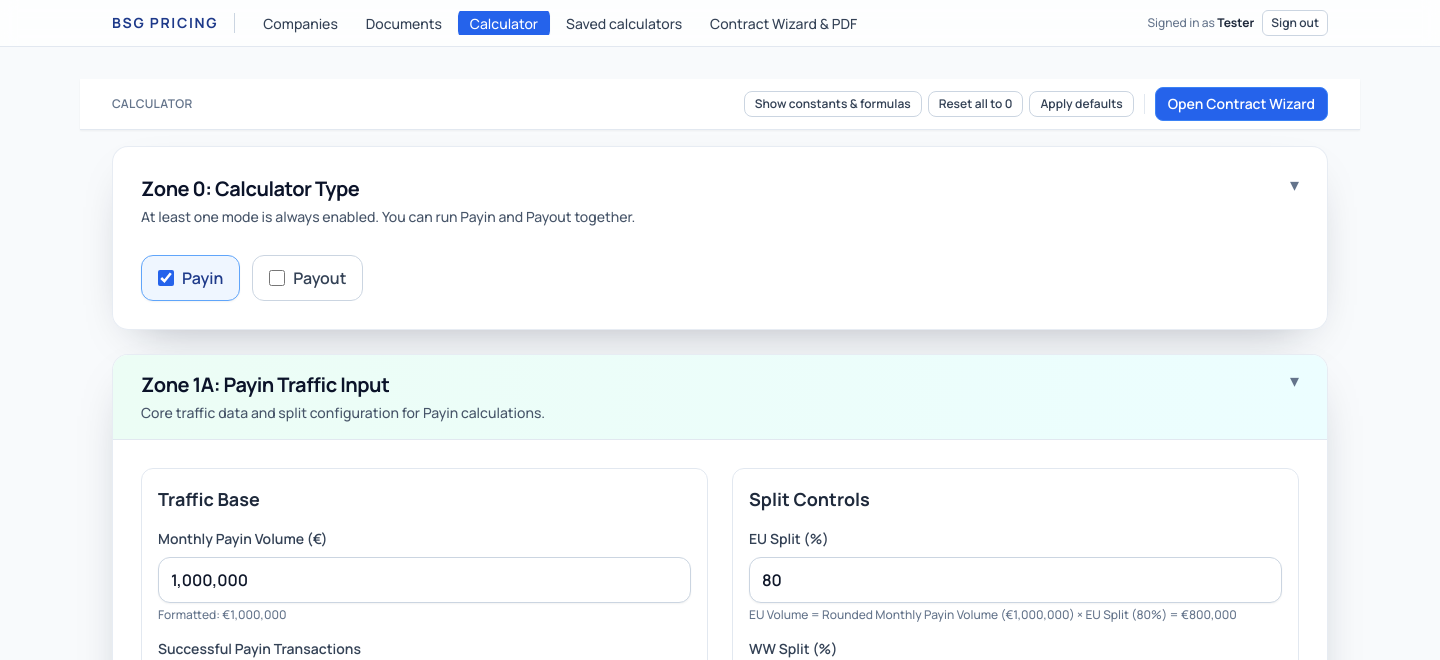
Test: Zone 5 and Zone 6 › supports unified profitability controls (expand/collapse + show formulas)
The width and height of the screenshot is (1440, 660).
Click the button "Show constants & formulas".
click(833, 104)  # box [744,91,922,117]
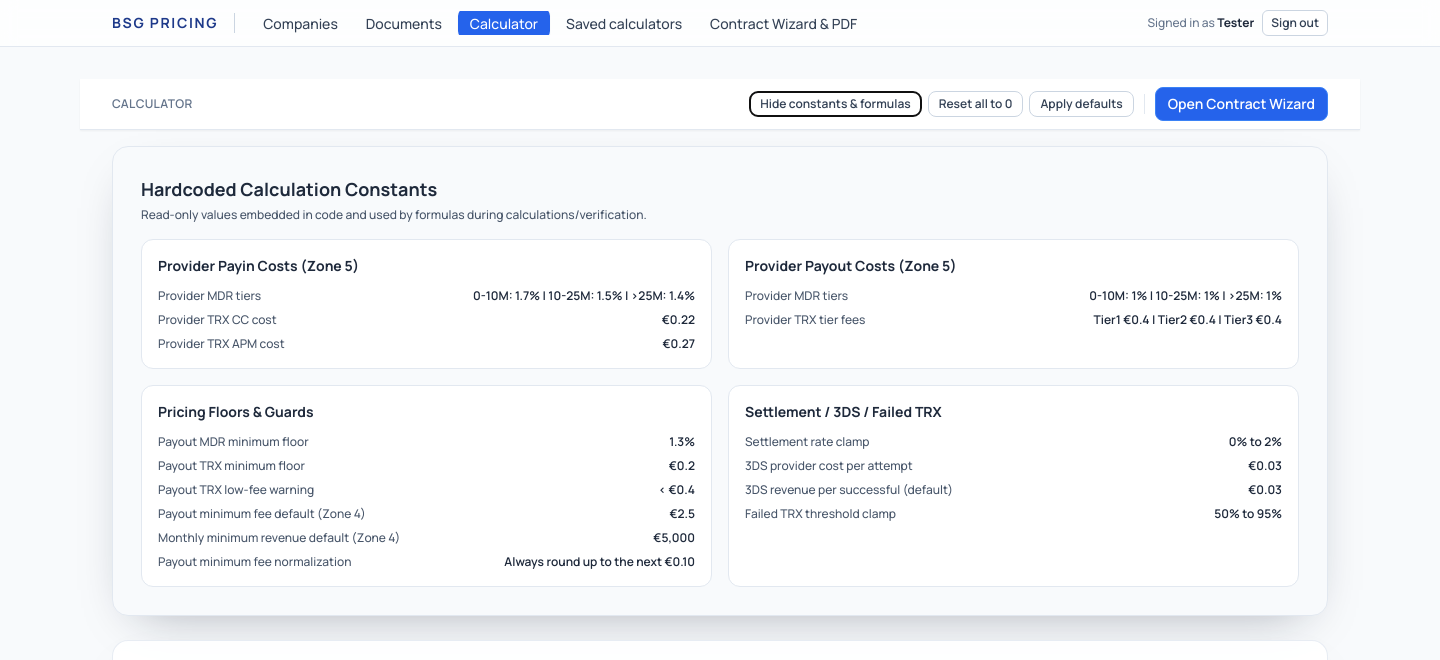
Click the button "Hide constants & formulas".
click(835, 104)  # box [749,91,922,117]
(page scrolled)
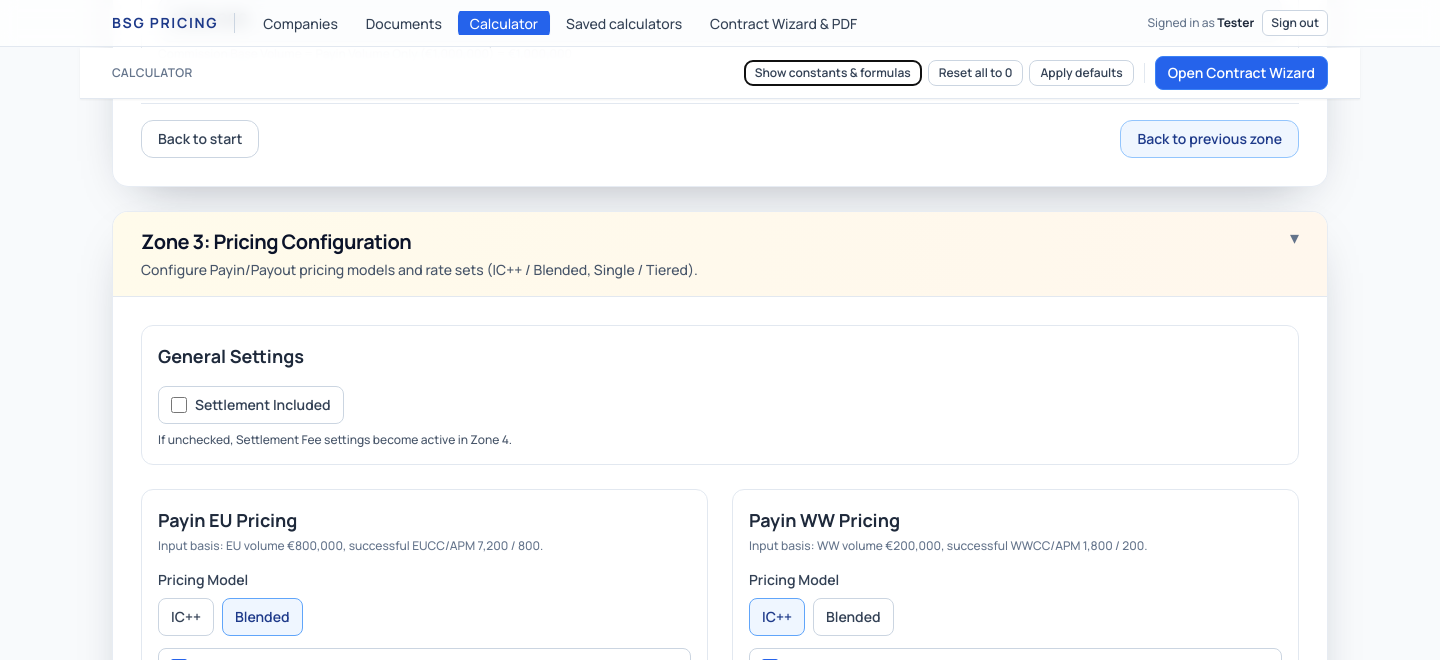
Click the checkbox labelled "Settlement Included".
click(179, 405)  # box [171,397,187,413]
(page scrolled)
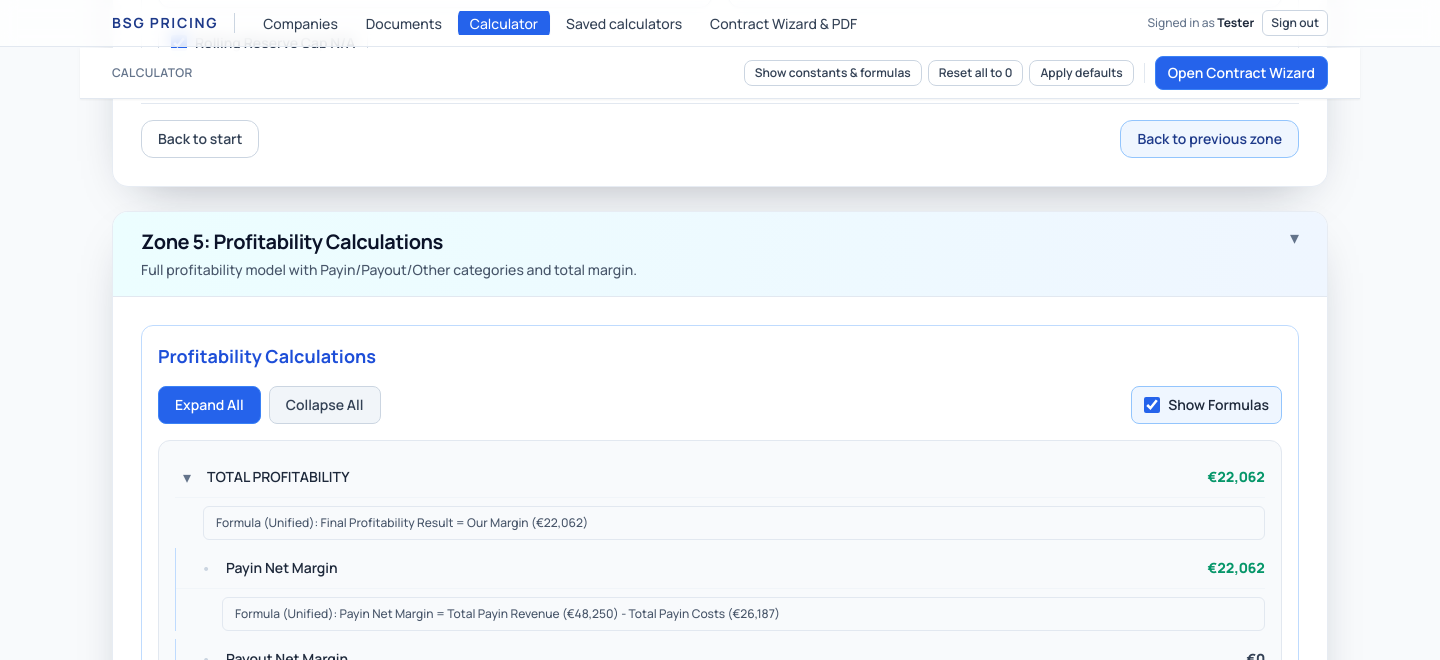
Click the checkbox labelled "Show Formulas".
click(1152, 405)  # box [1144,397,1160,413]
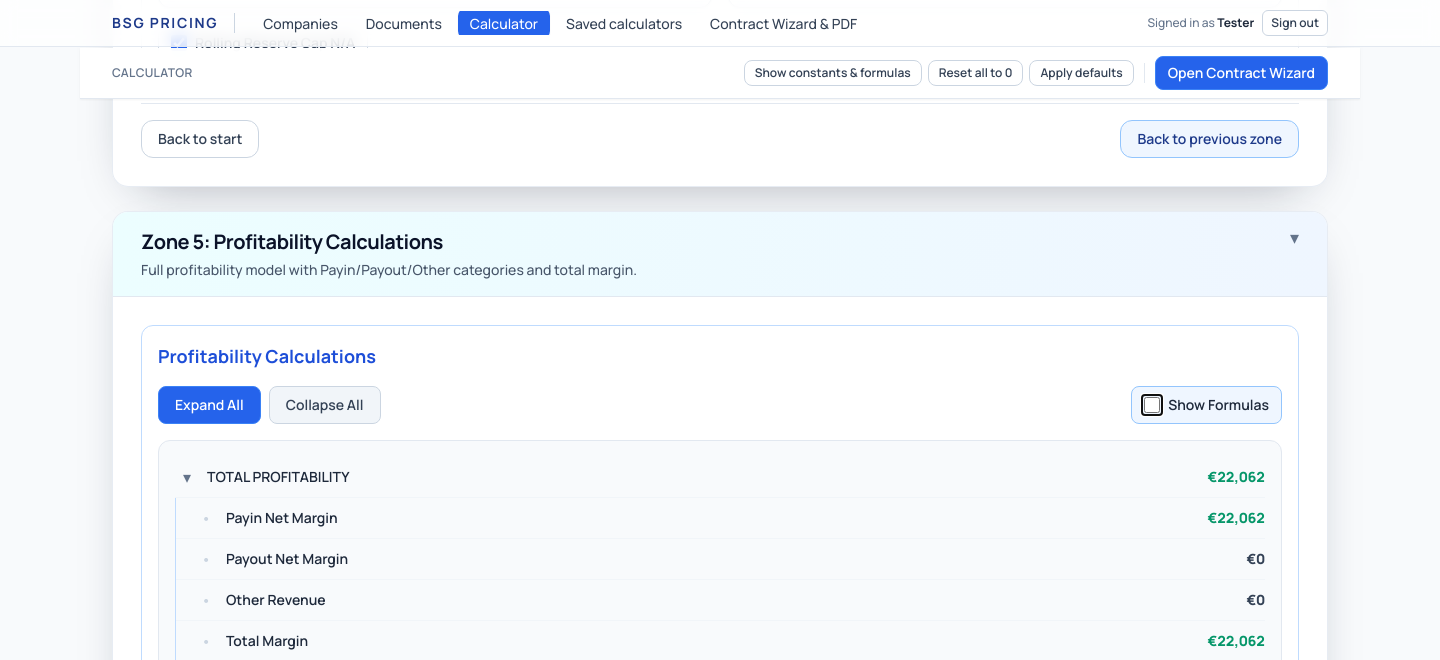
Click the button with aria-label "Collapse all unified profitability rows".
click(325, 405)  # box [269,386,380,424]
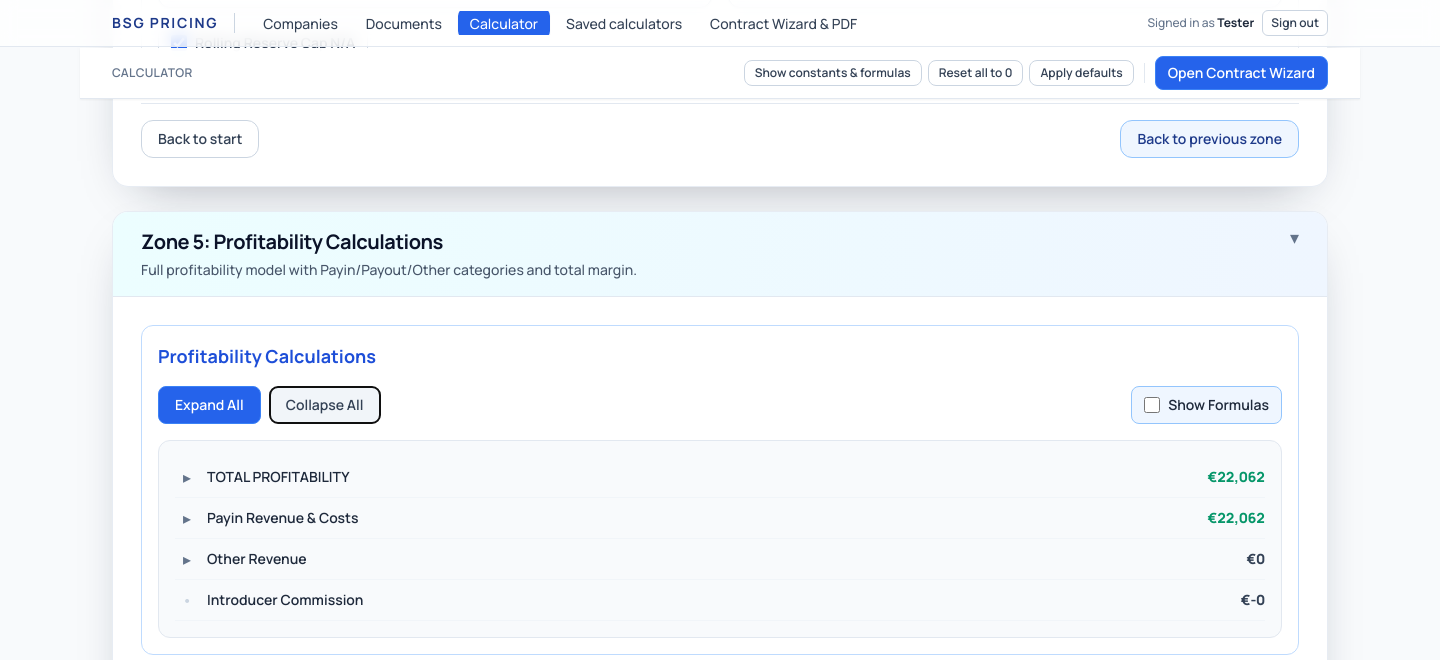
Click the button with aria-label "Expand all unified profitability rows".
click(209, 405)  # box [158,386,261,424]
(page scrolled)
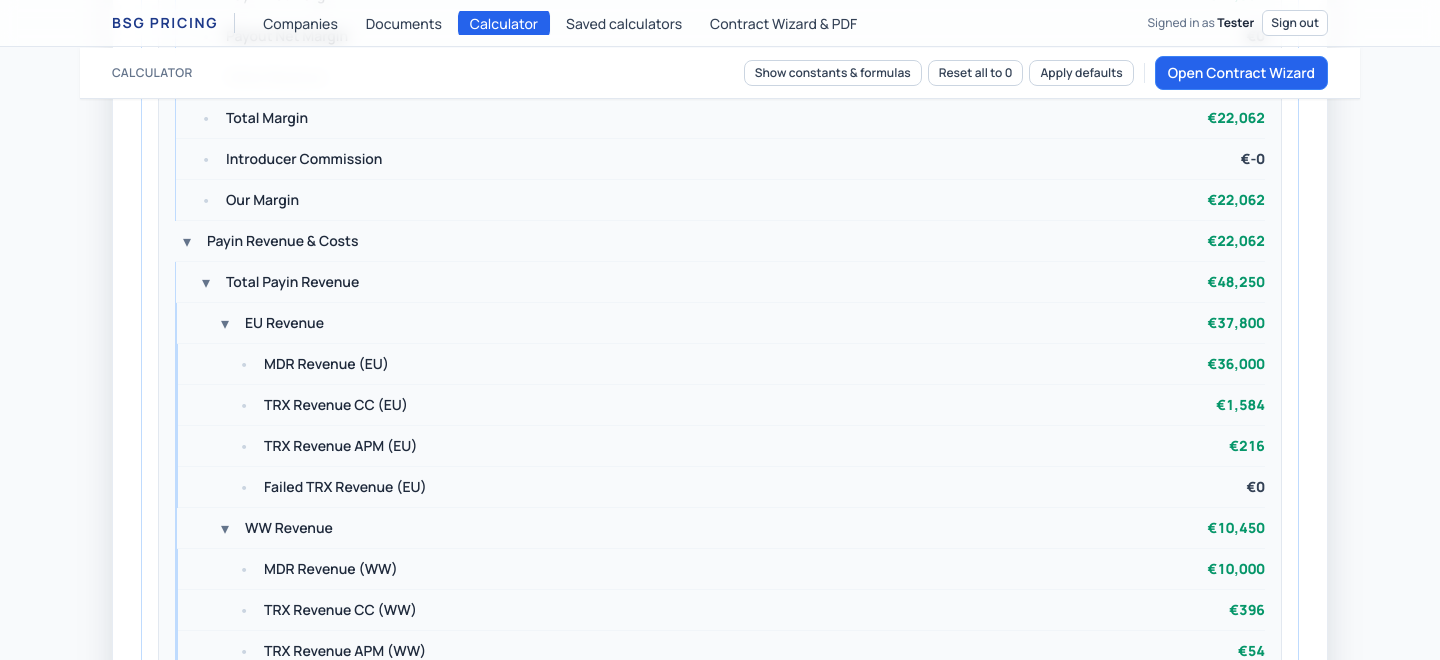
Expected: the text "TRX Revenue CC (EU)" is shown, [264,395,408,415]
